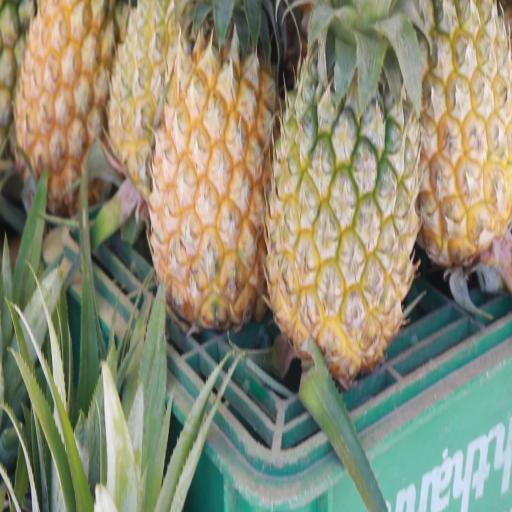------------------------------: (261, 0, 422, 393)
Pineapple - v8 v1: (147, 0, 281, 337), (399, 0, 512, 286), (10, 0, 119, 220)
